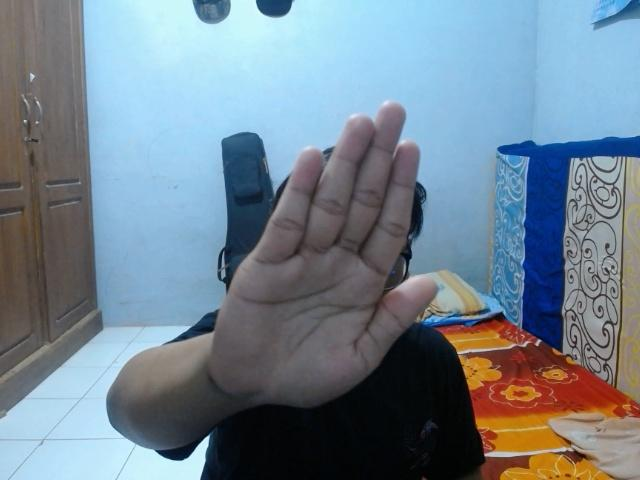Release: (202, 94, 443, 414)
